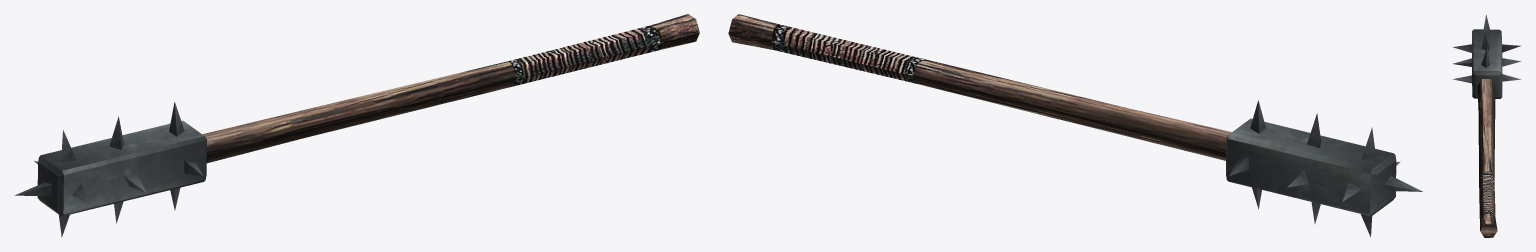
File: KM_ITMW_2H_MACE_02.glb
3 views of the same model, side by side, from view 1: azimuth 30°, elevation 25°; view 2: azimuth 150°, elevation 25°; view 3: azimuth 270°, elevation 25° (orthographic). The views are drawn at different scales.
Parts seen in each view (by area): view 1: KM_ITMW_2H_MACE_02; view 2: KM_ITMW_2H_MACE_02; view 3: KM_ITMW_2H_MACE_02.
Part boxes in pixels (x1,y1,x2,y2): KM_ITMW_2H_MACE_02: (14,14,699,237); KM_ITMW_2H_MACE_02: (728,14,1422,237); KM_ITMW_2H_MACE_02: (1452,14,1521,237).
Bounding box in the file's own units: 1.13 × 0.1743 × 0.167.
Materials: 2 (2 with a texture image).
